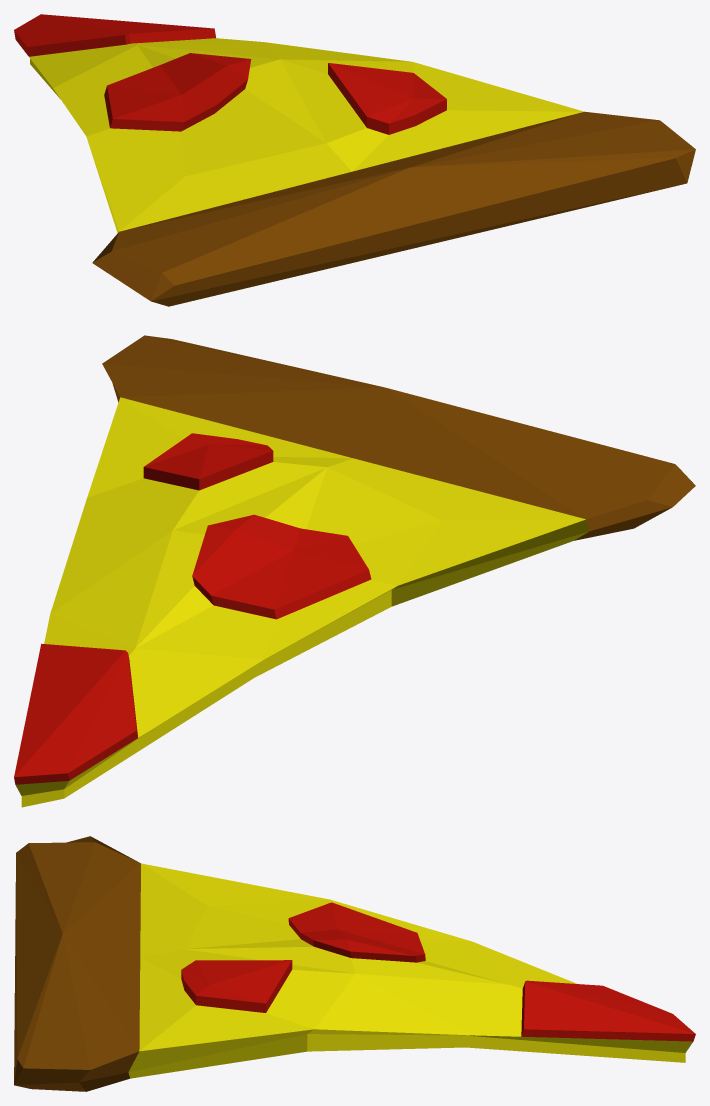
The model's file is pizza.fbx.
3 views of the same model, one above another, from view 1: azimuth 30°, elevation 25°; view 2: azimuth 150°, elevation 25°; view 3: azimuth 270°, elevation 25° (orthographic). The views are drawn at different scales.
Parts seen in each view (by area): view 1: Plane.001; view 2: Plane.001; view 3: Plane.001.
Part boxes in pixels (bbox=[...]): Plane.001: bbox=[14, 14, 695, 306]; Plane.001: bbox=[14, 335, 695, 807]; Plane.001: bbox=[14, 836, 695, 1091].
Bounding box in the file's own units: 670 × 171 × 814.
